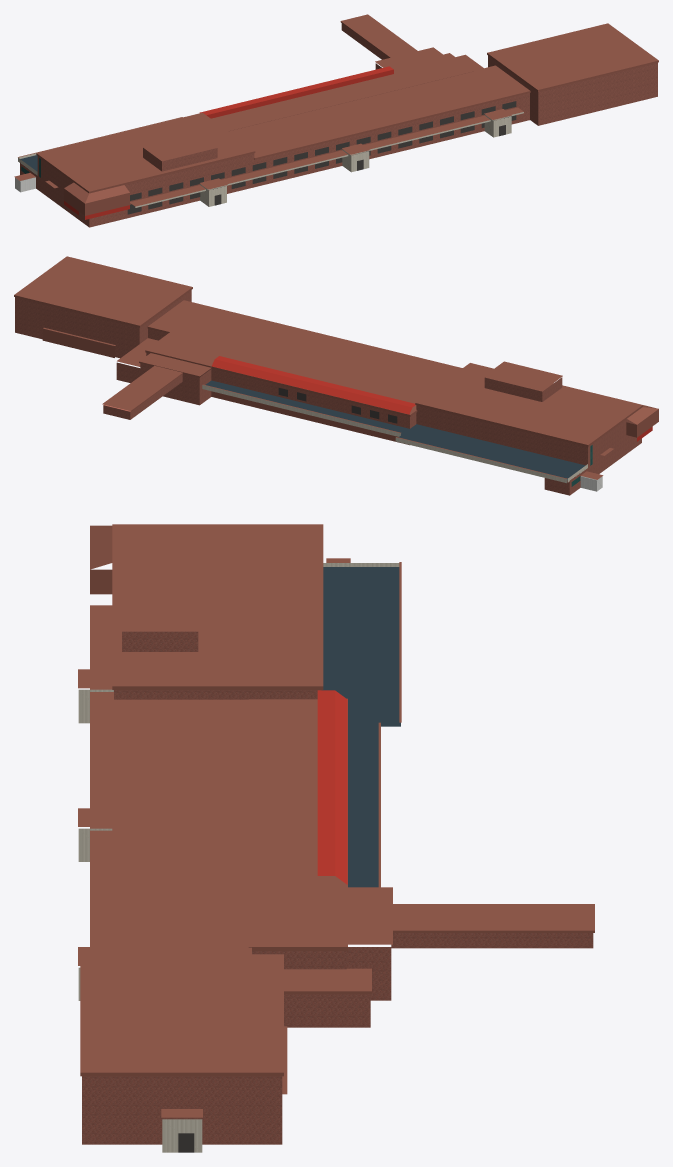
The model's file is cyxd_hangar21_lod2.gltf.
3 renders of one model, top to bottom at view 1: azimuth 30°, elevation 25°; view 2: azimuth 150°, elevation 25°; view 3: azimuth 270°, elevation 25°, orthographic. The views are drawn at different scales.
Visible parts, largest first — view 1: cyxd_hangar21; view 2: cyxd_hangar21; view 3: cyxd_hangar21.
Part boxes in pixels (x1,y1,x2,y2): cyxd_hangar21: (14,14,658,227); cyxd_hangar21: (14,256,658,495); cyxd_hangar21: (78,524,594,1152).
Bounding box in the file's own units: 169 × 13.1 × 64.5.
